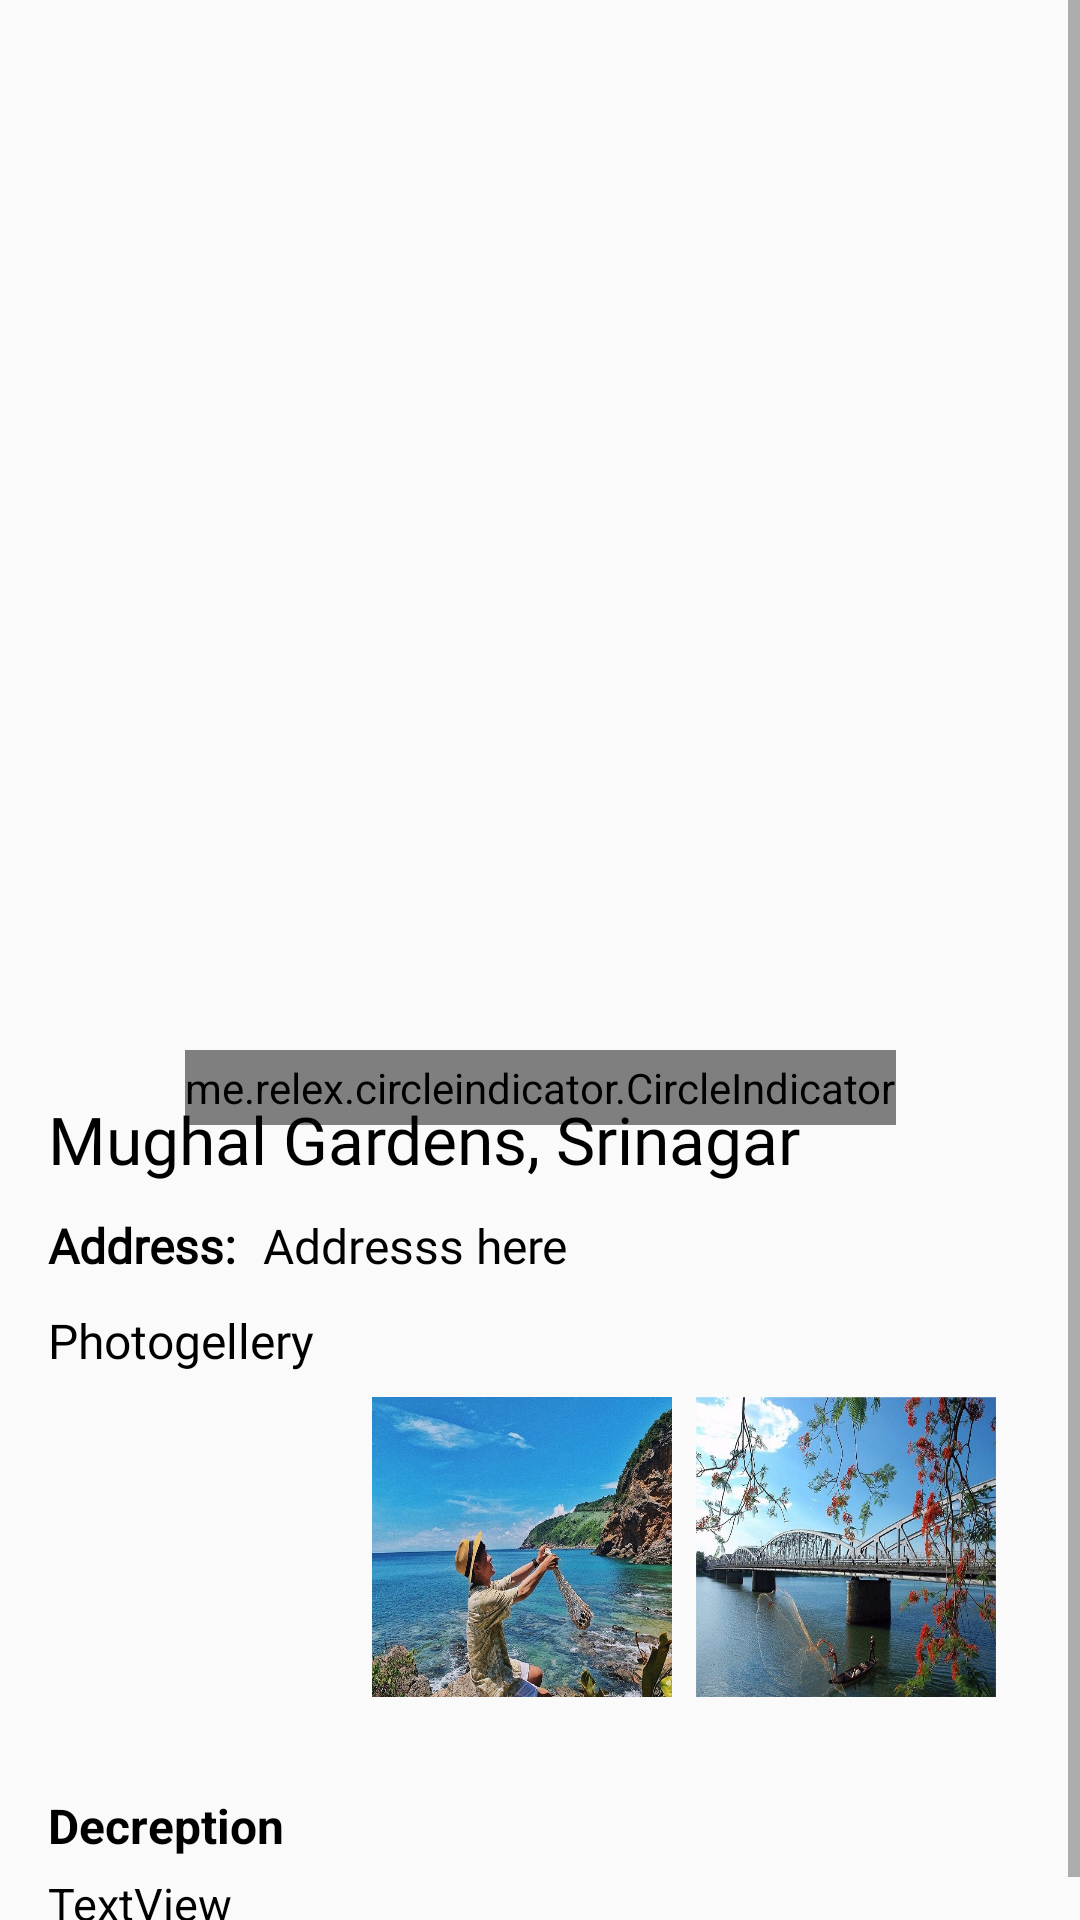

Point at icon controls on the screen. Image size 1080w x 1920h, points as (x=x, y=y).
baibut: (x=522, y=1547)
cautrangtien: (x=846, y=1547)
